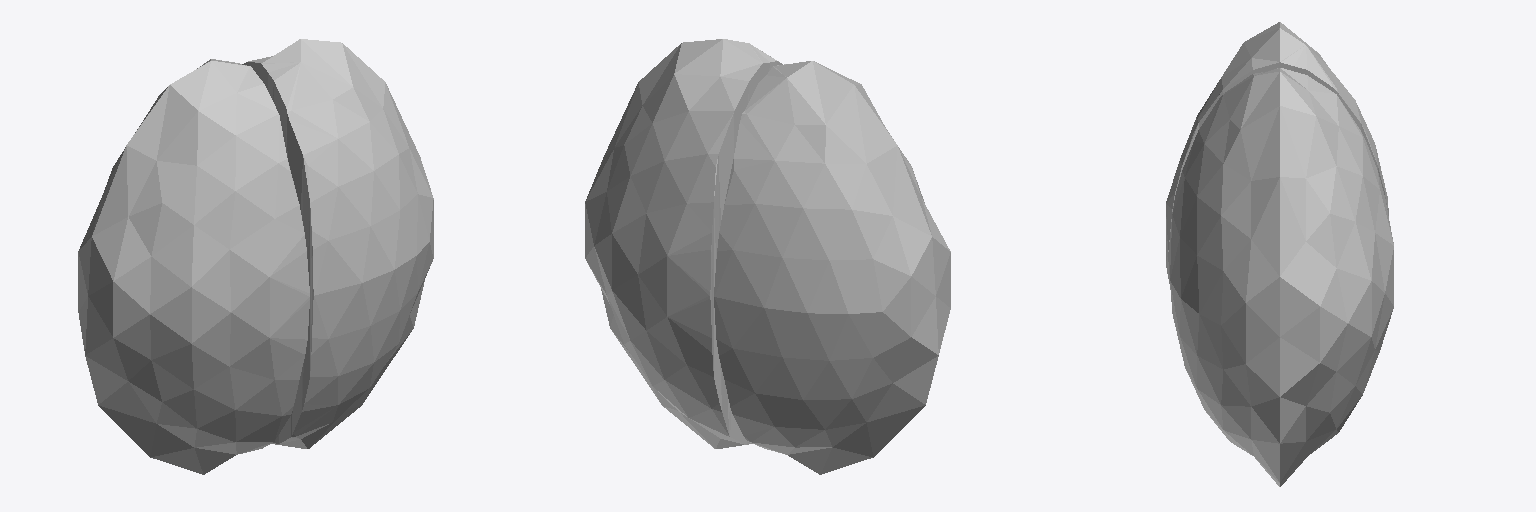
Rendered from brain2.obj.
The picture shows the model from 3 angles: view 1: azimuth 30°, elevation 25°; view 2: azimuth 150°, elevation 25°; view 3: azimuth 270°, elevation 25°; orthographic projection.
Visible parts, largest first — view 1: GeoSphere003, GeoSphere002; view 2: GeoSphere003, GeoSphere002; view 3: GeoSphere002, GeoSphere003.
Boxes of the visible parts, x1=… form: GeoSphere003: x1=78, y1=59, x2=309, y2=474; GeoSphere002: x1=242, y1=39, x2=433, y2=448; GeoSphere003: x1=714, y1=61, x2=950, y2=474; GeoSphere002: x1=585, y1=39, x2=782, y2=448; GeoSphere002: x1=1168, y1=68, x2=1393, y2=486; GeoSphere003: x1=1166, y1=22, x2=1388, y2=289.
Size of the model in its own units: 213 by 246 by 123.